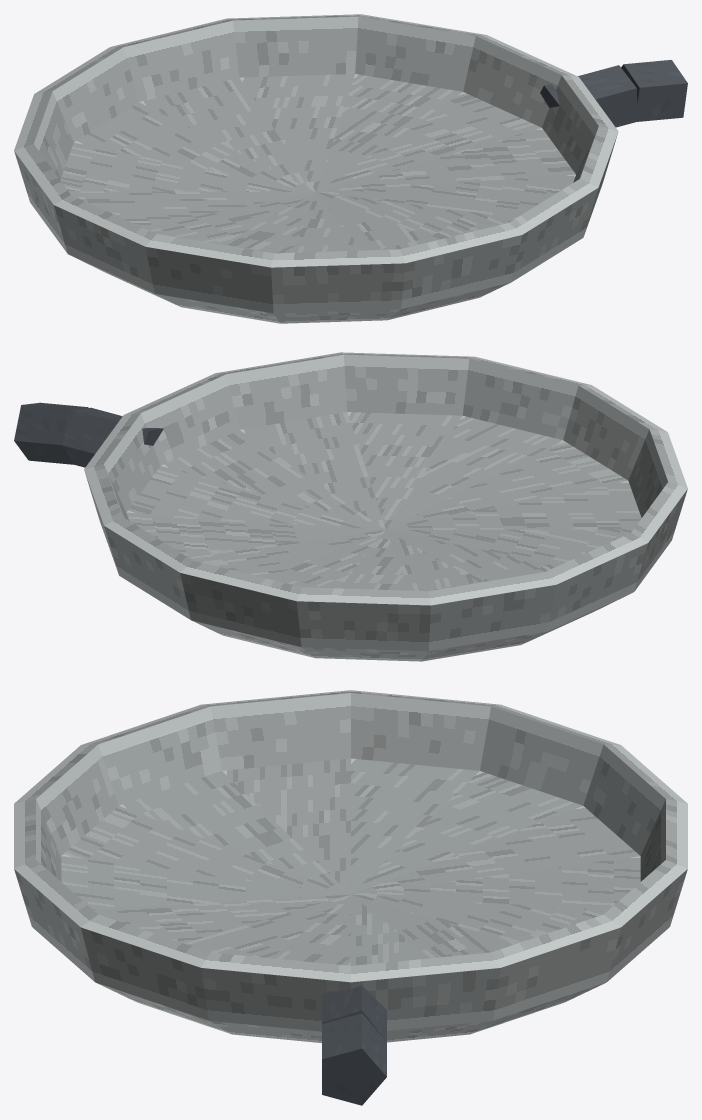
The model's file is aluminum_pan.glb.
3 views of the same model, one above another, from view 1: azimuth 30°, elevation 25°; view 2: azimuth 150°, elevation 25°; view 3: azimuth 270°, elevation 25° (orthographic). The views are drawn at different scales.
Visible parts, largest first — view 1: block_shallow aluminum pan, block_pan handle 1, block_pan handle 0; view 2: block_shallow aluminum pan, block_pan handle 1, block_pan handle 0; view 3: block_shallow aluminum pan, block_pan handle 1, block_pan handle 0.
Boxes of the visible parts, left/top/right/bottom form: block_shallow aluminum pan: left=14, top=14, right=618, bottom=323; block_pan handle 1: left=621, top=60, right=687, bottom=121; block_pan handle 0: left=540, top=65, right=637, bottom=127; block_shallow aluminum pan: left=84, top=352, right=687, bottom=661; block_pan handle 1: left=14, top=402, right=88, bottom=464; block_pan handle 0: left=62, top=407, right=163, bottom=467; block_shallow aluminum pan: left=14, top=690, right=687, bottom=1042; block_pan handle 1: left=322, top=1013, right=386, bottom=1105; block_pan handle 0: left=322, top=985, right=386, bottom=1041.
Size of the model in its own units: 0.35 by 0.0475 by 0.2876.
2 materials, 2 textured.
